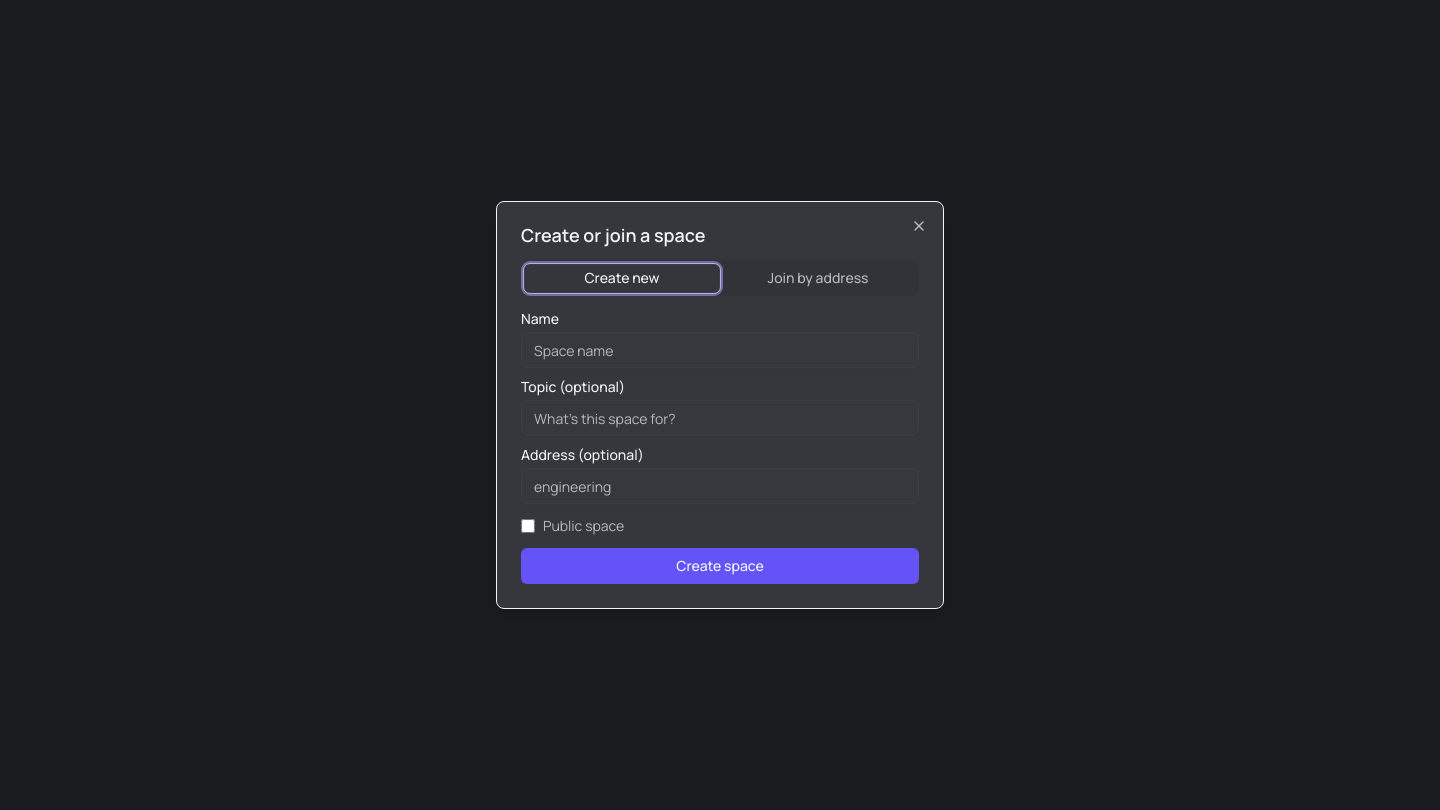
Test: CreateJoinSpaceDialog › clears an error from one tab when switching to the other
Click the button "Create space": (720, 566) [521,548,919,584]
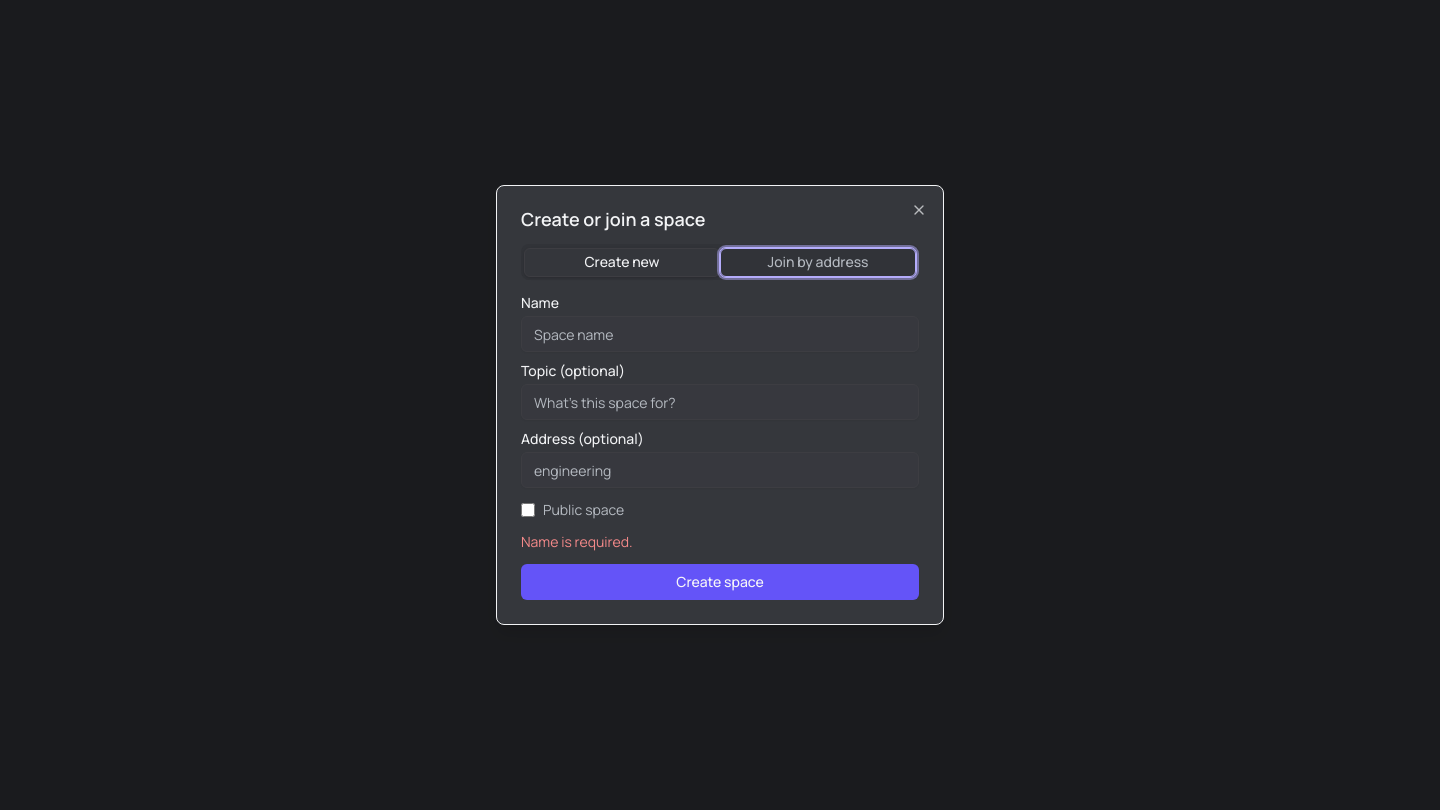
Expected: the text "Name is required." is shown, [521,532,632,551]
Click the tab "Join by address": (818, 262) [720,248,916,276]
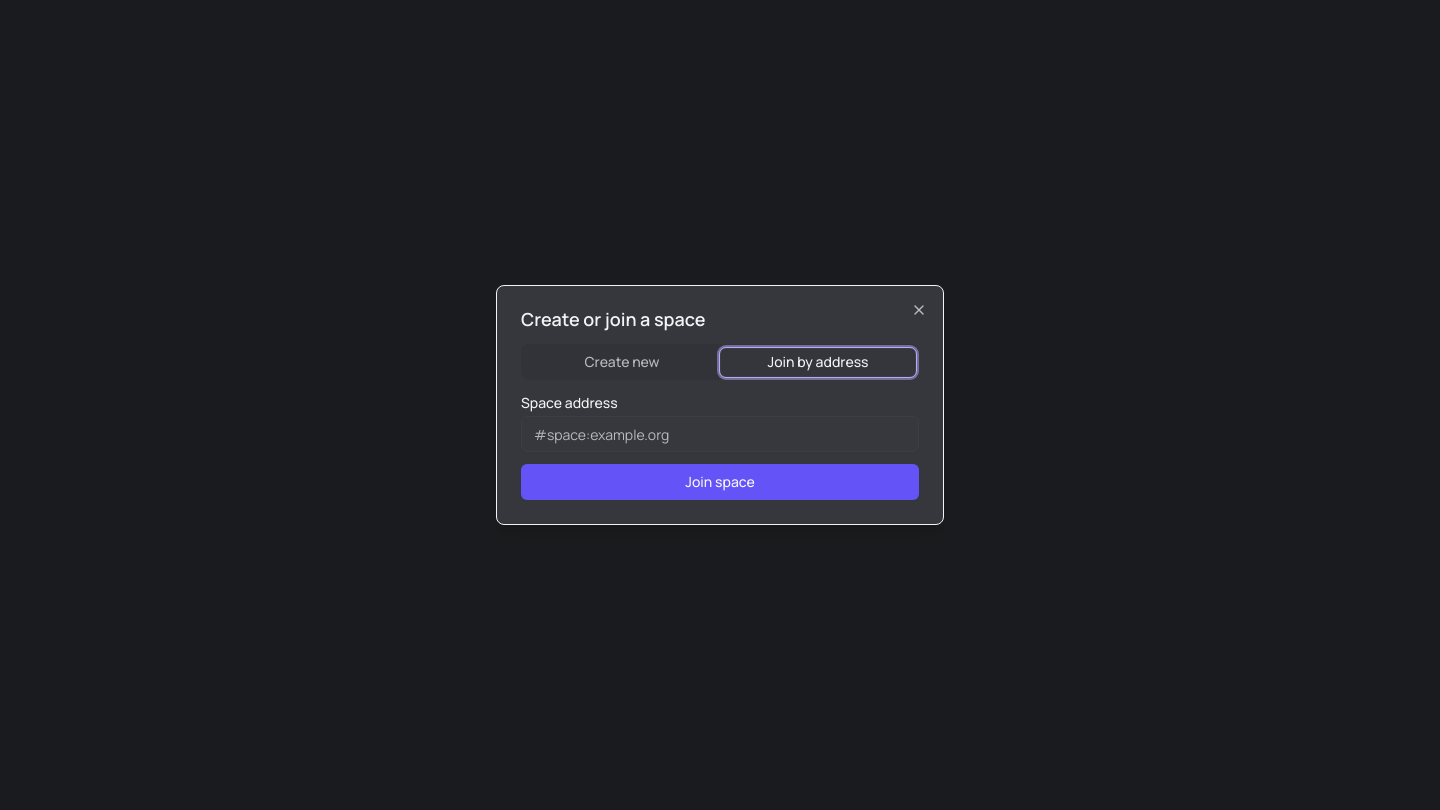
Expected: the field labelled "Space address" is shown, [521,416,919,452]
Expected: the text "Name is required." is gone
